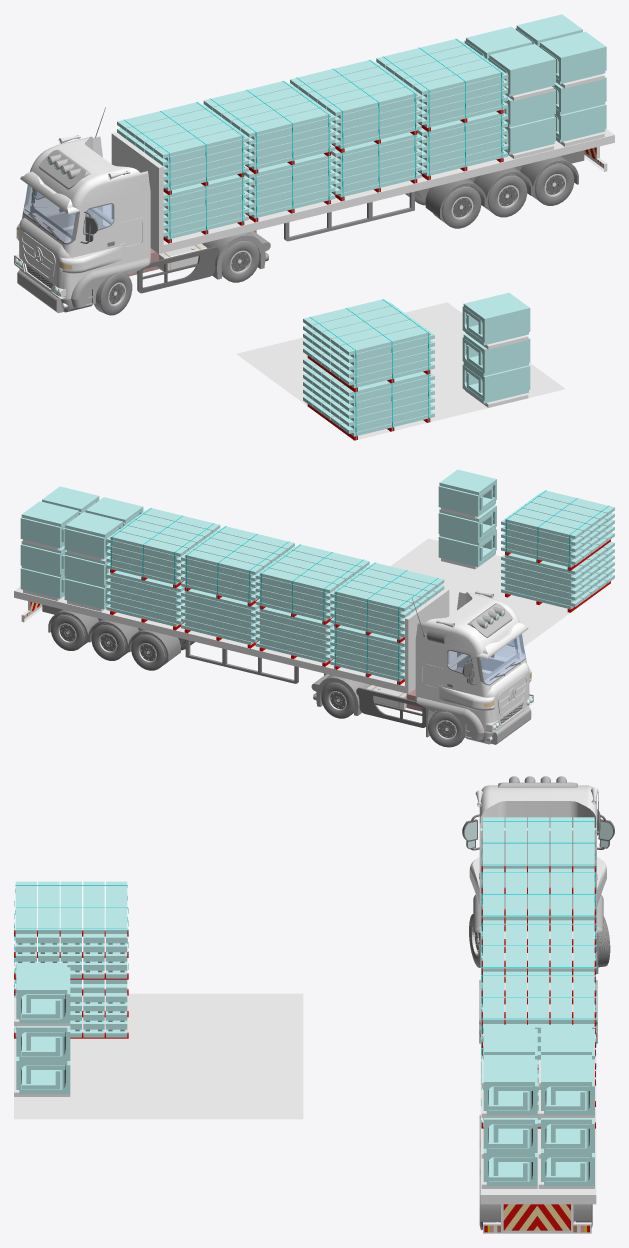
Rendered from Optimized_Stacking.glb.
The picture shows the model from 3 angles, top to bottom: view 1: azimuth 30°, elevation 25°; view 2: azimuth 150°, elevation 25°; view 3: azimuth 270°, elevation 25°; orthographic projection. The views are drawn at different scales.
Parts seen in each view (by area): view 1: Geom3D (×9), Geom3D_1__TLSID117500, Geom3D_TLSID118250, 3DGeom-9605, 3DGeom-9600, 3DGeom-9603, 3DGeom-9597, 3DGeom-9599, 3DGeom-9614, 3DGeom-9615, 3DGeom-9610, 3DGeom-9626 (+25 smaller); view 2: Geom3D (×10), Geom3D_1__TLSID117500, Geom3D_TLSID118250, 3DGeom-9605, 3DGeom-9600, 3DGeom-9599, 3DGeom-9597, 3DGeom-9603, 3DGeom-9614, 3DGeom-9615, 3DGeom-9610, 3DGeom-9632 (+25 smaller); view 3: Geom3D (×5), 3DGeom-9605, 3DGeom-9600, 3DGeom-9603, 3DGeom-9599, 3DGeom-9597, Geom3D_TLSID118250, Geom3D_1__TLSID117500, 3DGeom-9635, 3DGeom-9634, 3DGeom-9615, 3DGeom-9614.
Part boxes in pixels (bbox=[...]): Geom3D (×9): bbox=[23, 107, 584, 439]; Geom3D_1__TLSID117500: bbox=[22, 136, 150, 299]; Geom3D_TLSID118250: bbox=[111, 129, 614, 253]; 3DGeom-9605: bbox=[303, 299, 429, 381]; 3DGeom-9600: bbox=[117, 102, 243, 184]; 3DGeom-9603: bbox=[377, 38, 502, 121]; 3DGeom-9597: bbox=[290, 59, 416, 142]; 3DGeom-9599: bbox=[204, 80, 329, 163]; 3DGeom-9614: bbox=[303, 360, 429, 433]; 3DGeom-9615: bbox=[303, 305, 429, 385]; 3DGeom-9610: bbox=[117, 108, 243, 187]; 3DGeom-9626: bbox=[337, 134, 421, 197]; Geom3D (×10): bbox=[42, 538, 569, 747]; Geom3D_1__TLSID117500: bbox=[415, 592, 526, 733]; Geom3D_TLSID118250: bbox=[14, 586, 449, 693]; 3DGeom-9605: bbox=[505, 490, 614, 561]; 3DGeom-9600: bbox=[335, 562, 443, 634]; 3DGeom-9599: bbox=[260, 544, 368, 615]; 3DGeom-9597: bbox=[186, 526, 294, 597]; 3DGeom-9603: bbox=[111, 508, 219, 579]; 3DGeom-9614: bbox=[505, 543, 614, 606]; 3DGeom-9615: bbox=[505, 496, 614, 565]; 3DGeom-9610: bbox=[334, 568, 444, 637]; 3DGeom-9632: bbox=[106, 572, 179, 626]; Geom3D (×5): bbox=[14, 792, 598, 1233]; 3DGeom-9605: bbox=[15, 881, 127, 956]; 3DGeom-9600: bbox=[483, 817, 594, 865]; 3DGeom-9603: bbox=[483, 971, 594, 1019]; 3DGeom-9599: bbox=[483, 868, 594, 916]; 3DGeom-9597: bbox=[483, 920, 594, 968]; Geom3D_TLSID118250: bbox=[480, 828, 596, 1204]; Geom3D_1__TLSID117500: bbox=[479, 785, 596, 932]; 3DGeom-9635: bbox=[15, 934, 127, 978]; 3DGeom-9634: bbox=[15, 984, 127, 1037]; 3DGeom-9615: bbox=[15, 929, 127, 970]; 3DGeom-9614: bbox=[15, 979, 127, 1029].
Bounding box in the file's own units: 16.72 × 4.65 × 12.86.
Materials: 71 (1 with a texture image).
